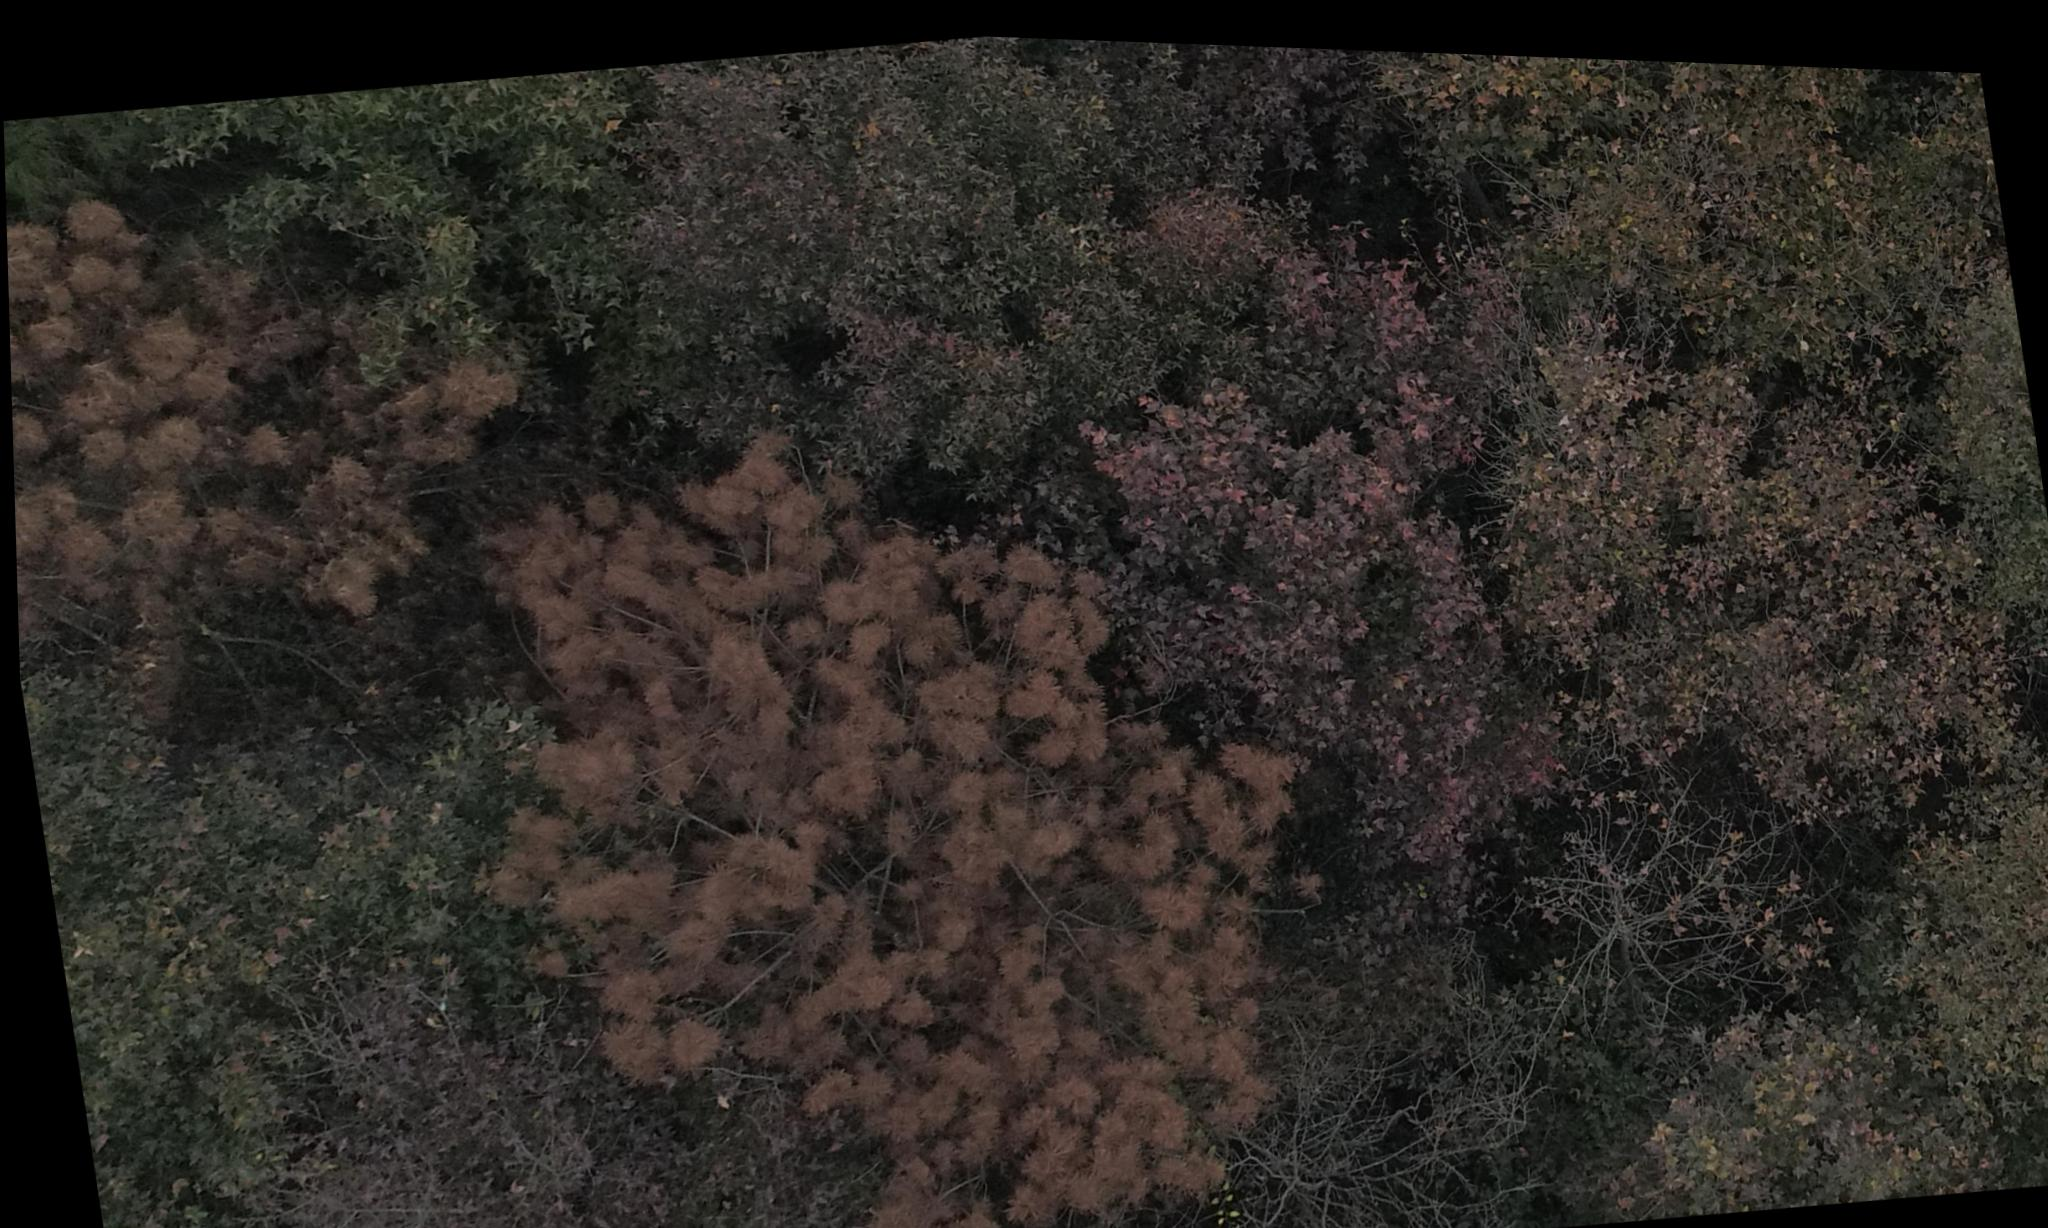heavy: (532, 376, 1376, 1228), (4, 164, 506, 646)
